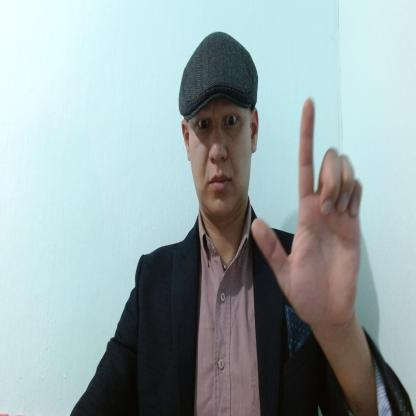L: (252, 95, 362, 327)
